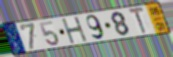5: (38, 20, 60, 47)
7: (19, 22, 36, 51)
8: (111, 11, 131, 37)
9: (86, 15, 106, 41)
H: (60, 15, 89, 45)
T: (128, 6, 148, 36)
